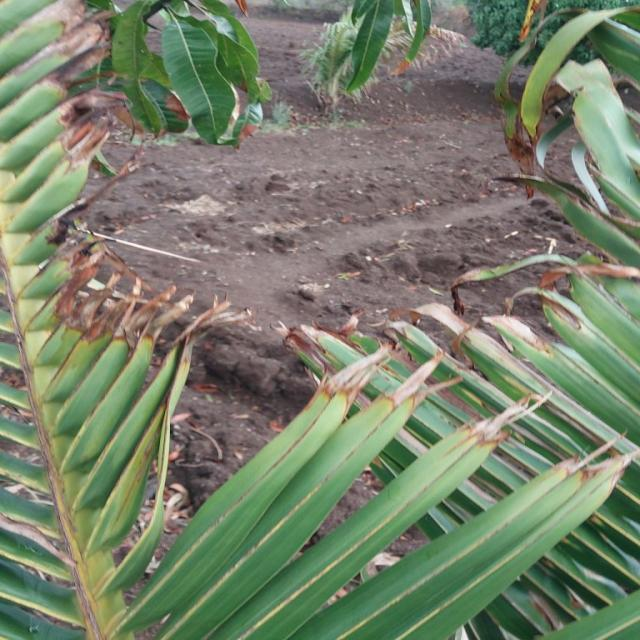leaf rot: (272, 84, 640, 563), (3, 12, 250, 452)
